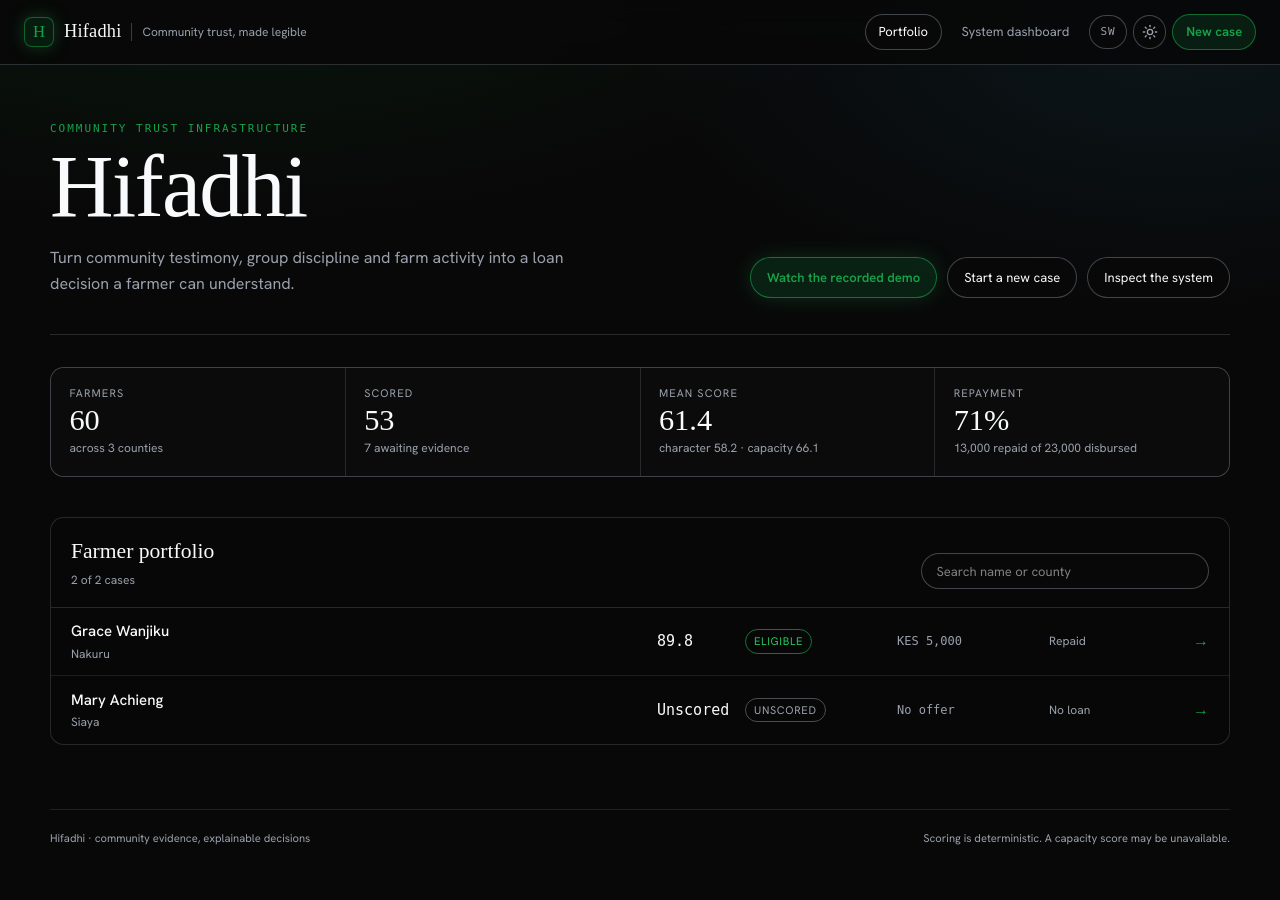
PortfolioPage › filters the portfolio by search text
Type "grace" into the search field named "search farmers".
click(1065, 571); type("grace")  # box x1=921 y1=553 x2=1209 y2=589
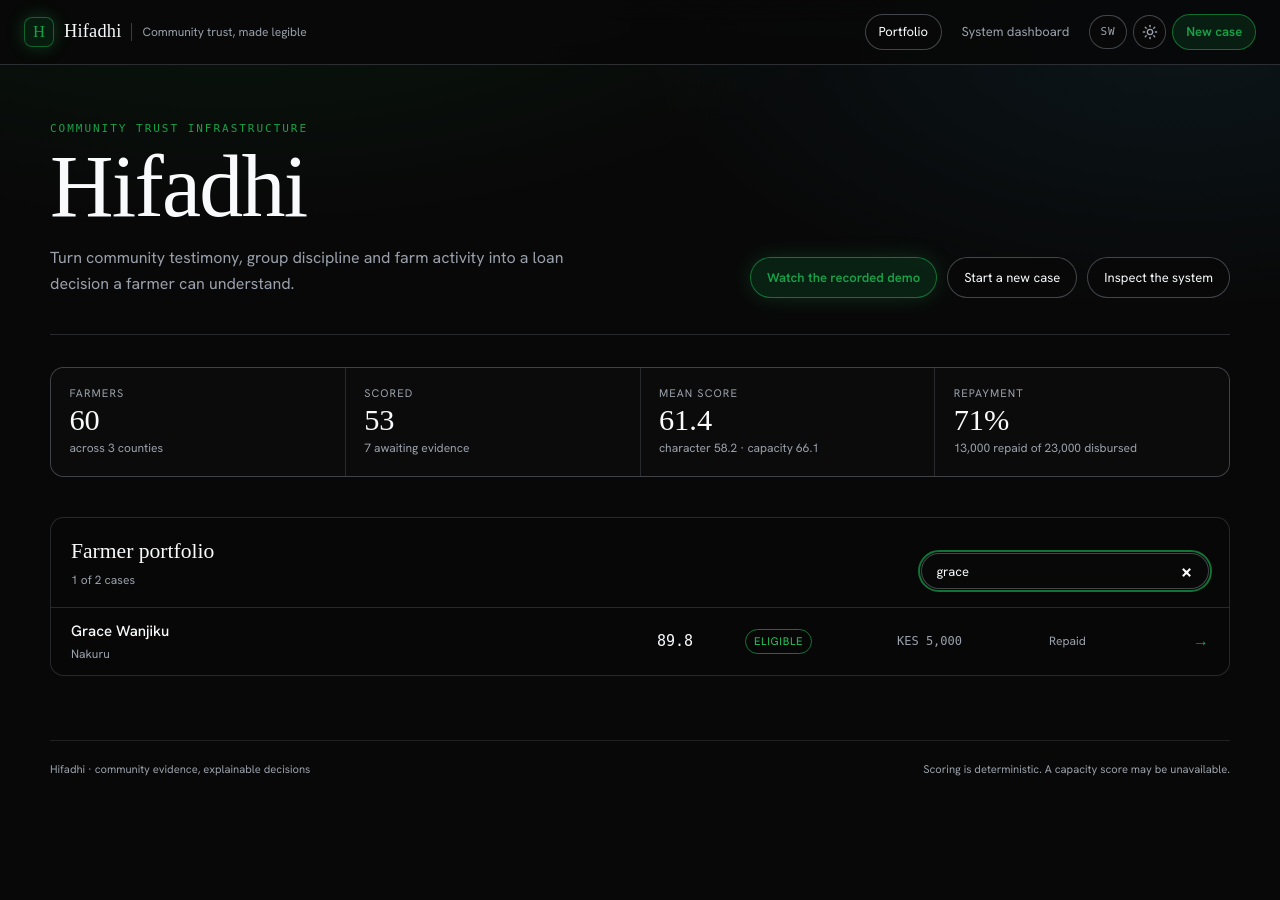
expect the link "Grace Wanjiku Nakuru 89.8 Eligible KES 5,000 Repaid →" is shown: met, box x1=71 y1=621 x2=1209 y2=662
expect the link "Mary Achieng" is gone: met
